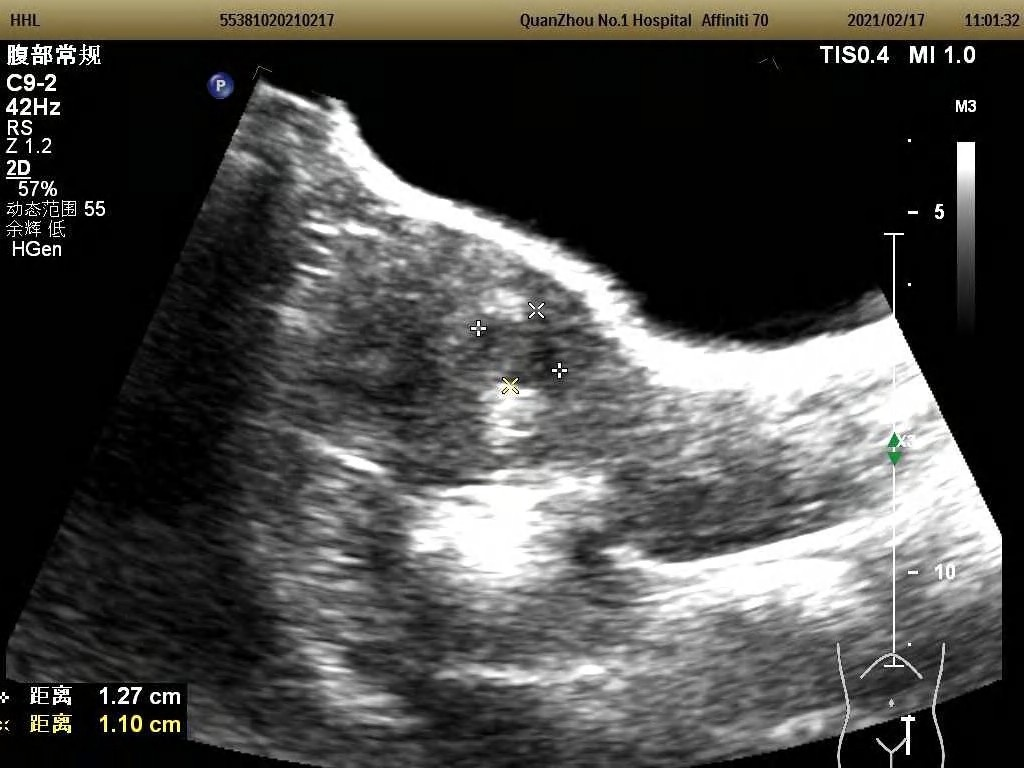肌瘤: (479, 312, 563, 387)
